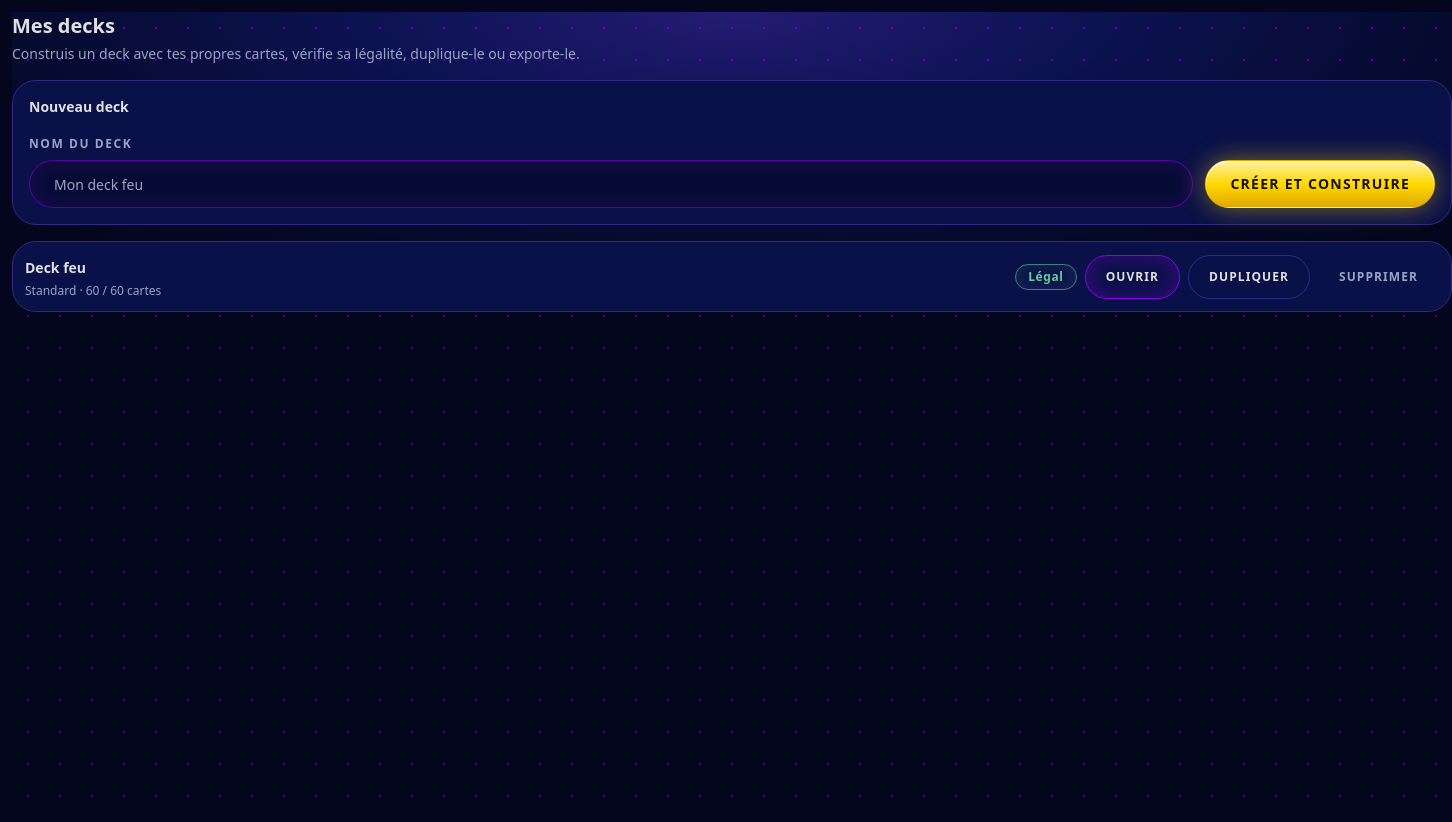
Scenario: DecksListView › duplique un deck et l'ajoute à la liste
Click the button "Dupliquer": (1249, 277) [1188,255,1310,299]
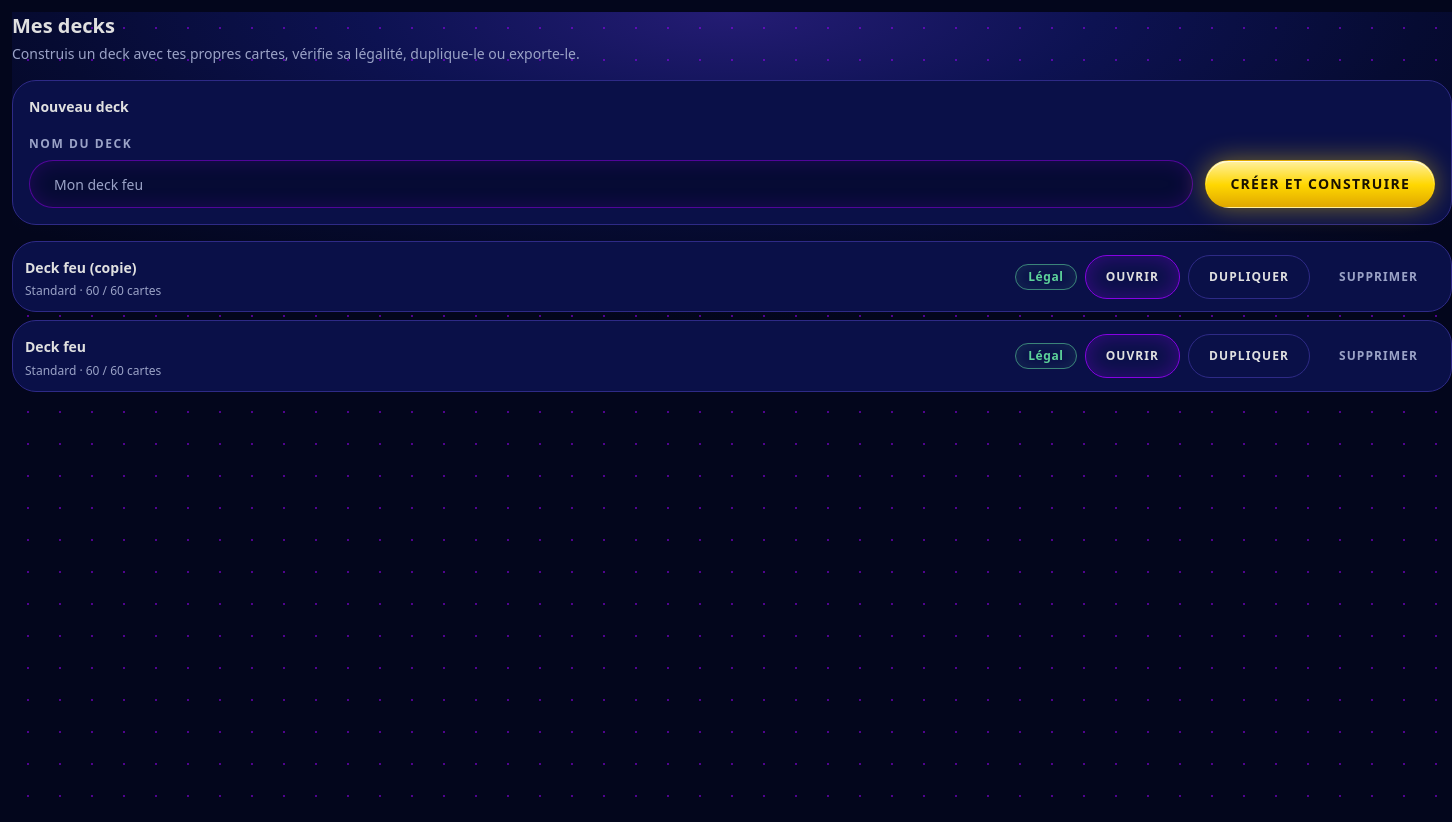
Now the link "Deck feu (copie)" is shown, box [25,258,136,277]
